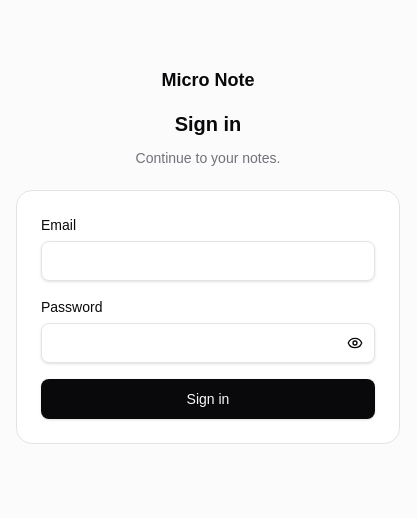
Test: LoginPage › does not expose a backend error message
Type "user@example.com" into the field labelled "Email" at (208, 261), box [41,241,375,281]
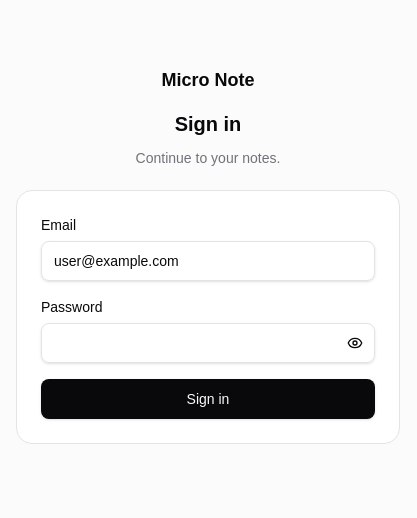
Type "wrong" into the password field labelled "Password" at (208, 343), box [41,323,375,363]
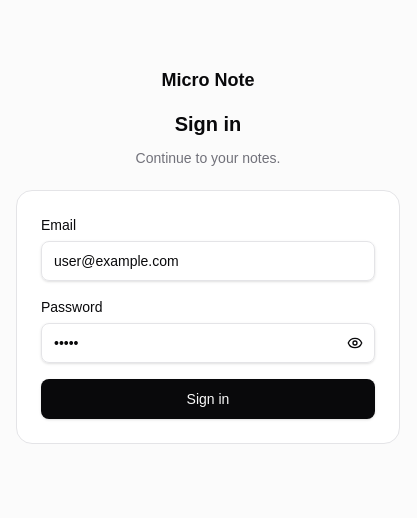
Click the button "Sign in" at (208, 399), box [41,379,375,419]
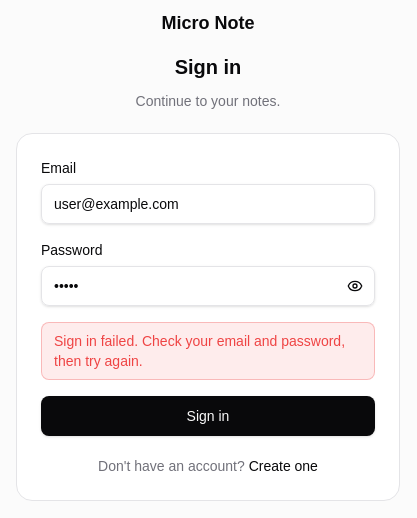
Expected: the message shows "Sign in failed", [54,333,345,369]
